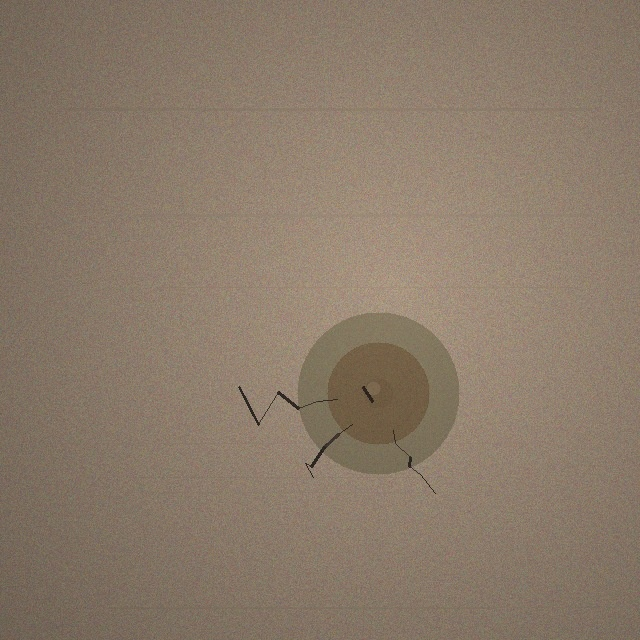crack: (297, 312, 459, 474)
